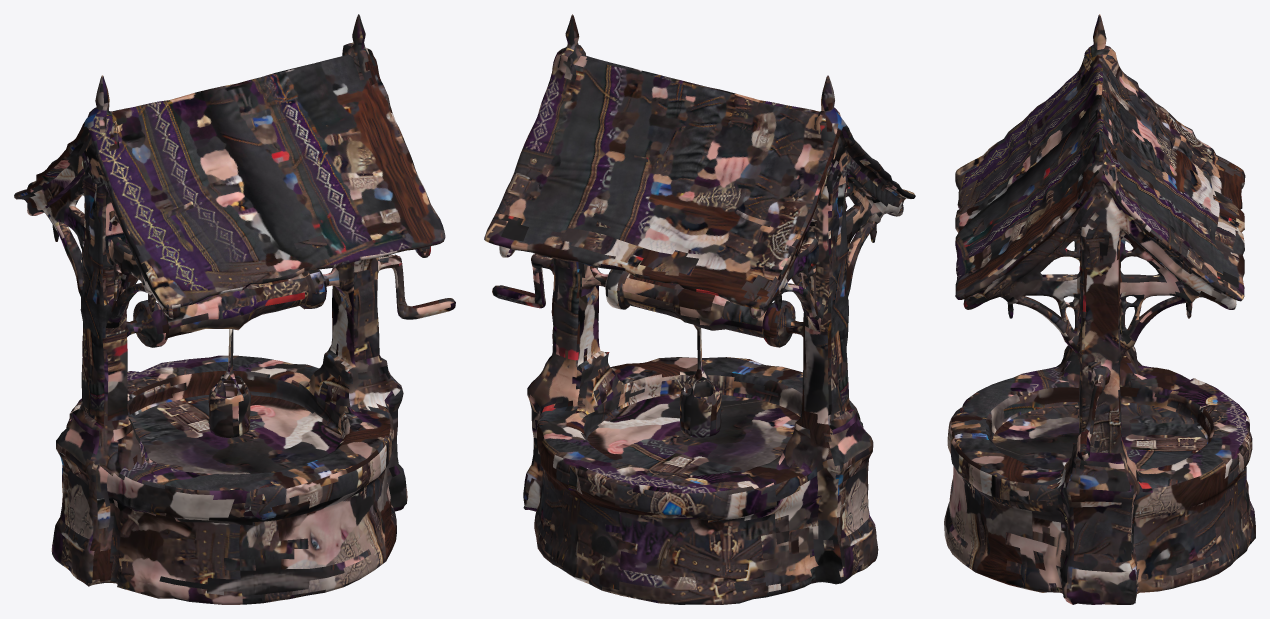
3 renders of one model, left to right at view 1: azimuth 30°, elevation 25°; view 2: azimuth 150°, elevation 25°; view 3: azimuth 270°, elevation 25°, orthographic. The views are drawn at different scales.
Parts seen in each view (by area): view 1: tripo_node_571e89fe; view 2: tripo_node_571e89fe; view 3: tripo_node_571e89fe.
Part boxes in pixels (x1,y1,x2,y2): tripo_node_571e89fe: [14, 14, 455, 604]; tripo_node_571e89fe: [484, 14, 915, 604]; tripo_node_571e89fe: [944, 14, 1255, 604].
Bounding box in the file's own units: 0.7807 × 0.9725 × 0.5972.
